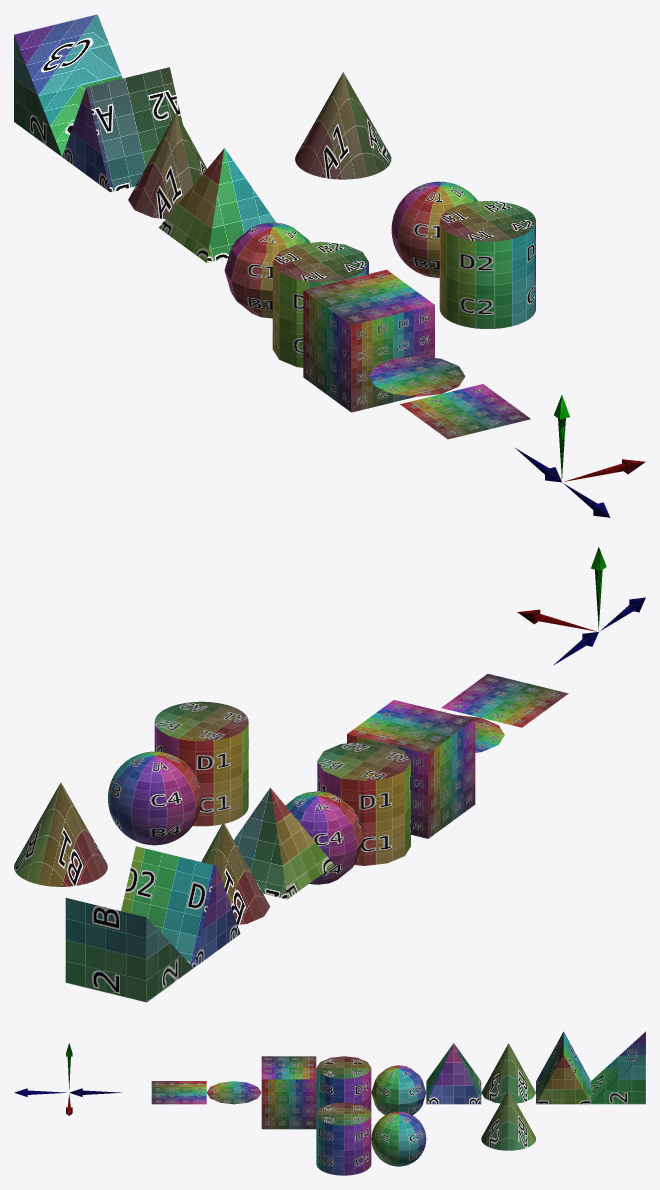
File: base_shapes.glb
3 renders of one model, top to bottom at view 1: azimuth 30°, elevation 25°; view 2: azimuth 150°, elevation 25°; view 3: azimuth 270°, elevation 25°, orthographic. The views are drawn at different scales.
Parts seen in each view (by area): view 1: Cube, Cylinder, Ramp, Wedge, Spike, Cylinder_Low, Cone, Sphere, Sphere_Low, Cone_Low, Plane, Circle (+1 smaller); view 2: Cube, Ramp, Wedge, Cylinder, Cylinder_Low, Sphere, Spike, Cone, Sphere_Low, Plane, Cone_Low, Axes (+1 smaller); view 3: Cube, Cylinder, Wedge, Ramp, Cylinder_Low, Sphere, Spike, Sphere_Low, Cone, Cone_Low, Plane, Circle (+1 smaller).
Part boxes in pixels (x1,y1,x2,y2): Cube: (303, 269, 434, 412); Cylinder: (439, 201, 535, 328); Ramp: (14, 14, 122, 156); Wedge: (62, 67, 182, 192); Spike: (159, 148, 276, 262); Cylinder_Low: (272, 241, 368, 367); Cone: (295, 72, 391, 179); Sphere: (391, 181, 477, 277); Sphere_Low: (224, 222, 310, 318); Cone_Low: (128, 113, 206, 218); Plane: (400, 384, 530, 439); Circle: (369, 356, 465, 396); Cube: (347, 700, 475, 838); Ramp: (65, 898, 193, 1002); Wedge: (121, 846, 240, 967); Cylinder: (154, 701, 248, 826); Cylinder_Low: (317, 741, 410, 865); Sphere: (108, 751, 201, 845); Spike: (233, 787, 333, 899); Cone: (14, 782, 107, 886); Sphere_Low: (285, 791, 363, 884); Plane: (441, 673, 568, 727); Cone_Low: (201, 822, 270, 924); Axes: (517, 547, 645, 631); Cube: (261, 1056, 316, 1129); Cylinder: (316, 1102, 371, 1175); Wedge: (536, 1031, 590, 1104); Ramp: (591, 1031, 645, 1104); Cylinder_Low: (316, 1056, 371, 1113); Sphere: (371, 1111, 426, 1166); Spike: (426, 1043, 481, 1104); Sphere_Low: (371, 1065, 426, 1115); Cone: (481, 1089, 535, 1150); Cone_Low: (481, 1043, 535, 1103); Plane: (151, 1081, 206, 1104); Circle: (206, 1081, 261, 1104).
Size of what is drawn, in the model's own units: 3 by 1.51 by 11.51.
Materials: 1 (1 with a texture image).
